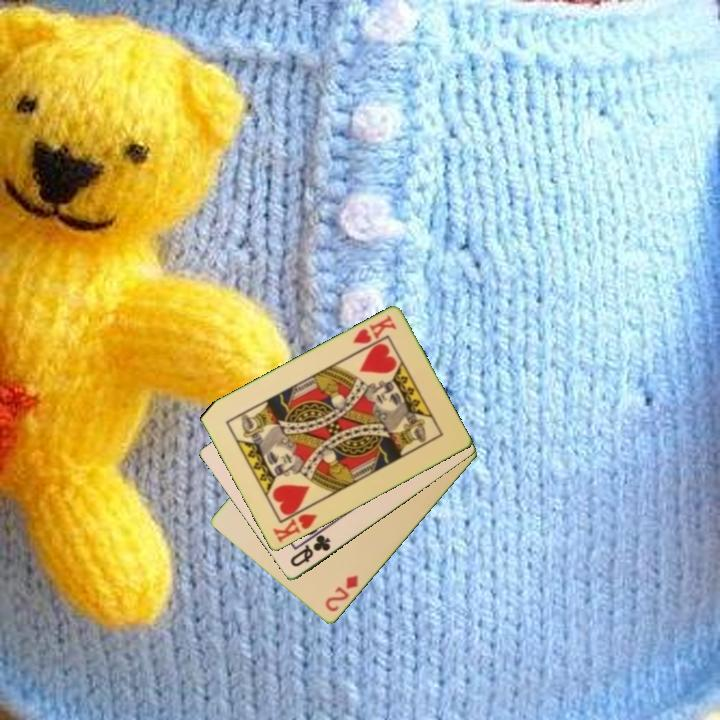2d: (321, 571, 361, 615)
Kh: (269, 502, 320, 546), (349, 311, 399, 347)
Qc: (286, 531, 334, 570)
